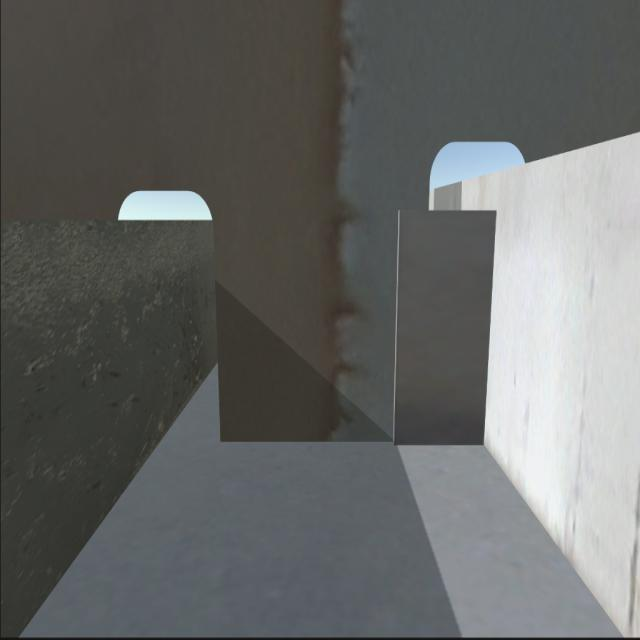fillet_yong_jeop_jang: (221, 432, 485, 452)
longi_yong_jeop_jang: (480, 206, 491, 445)
plate_CP01: (396, 208, 486, 448)
